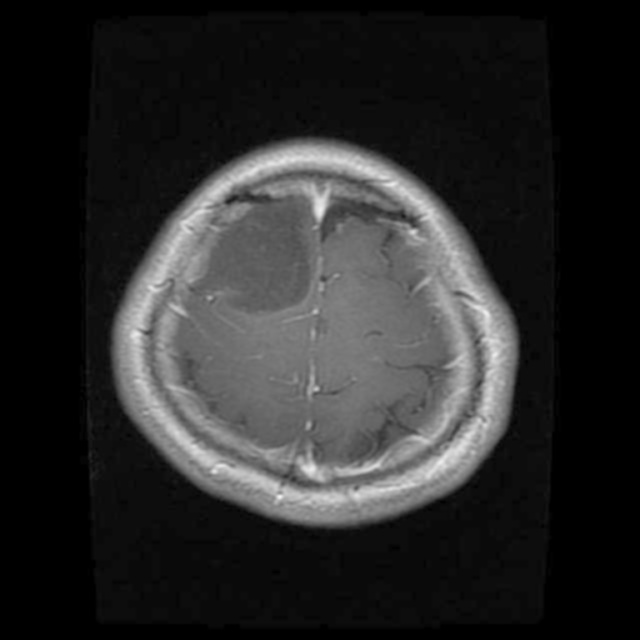pituitary tumor: (199, 204, 310, 308)
